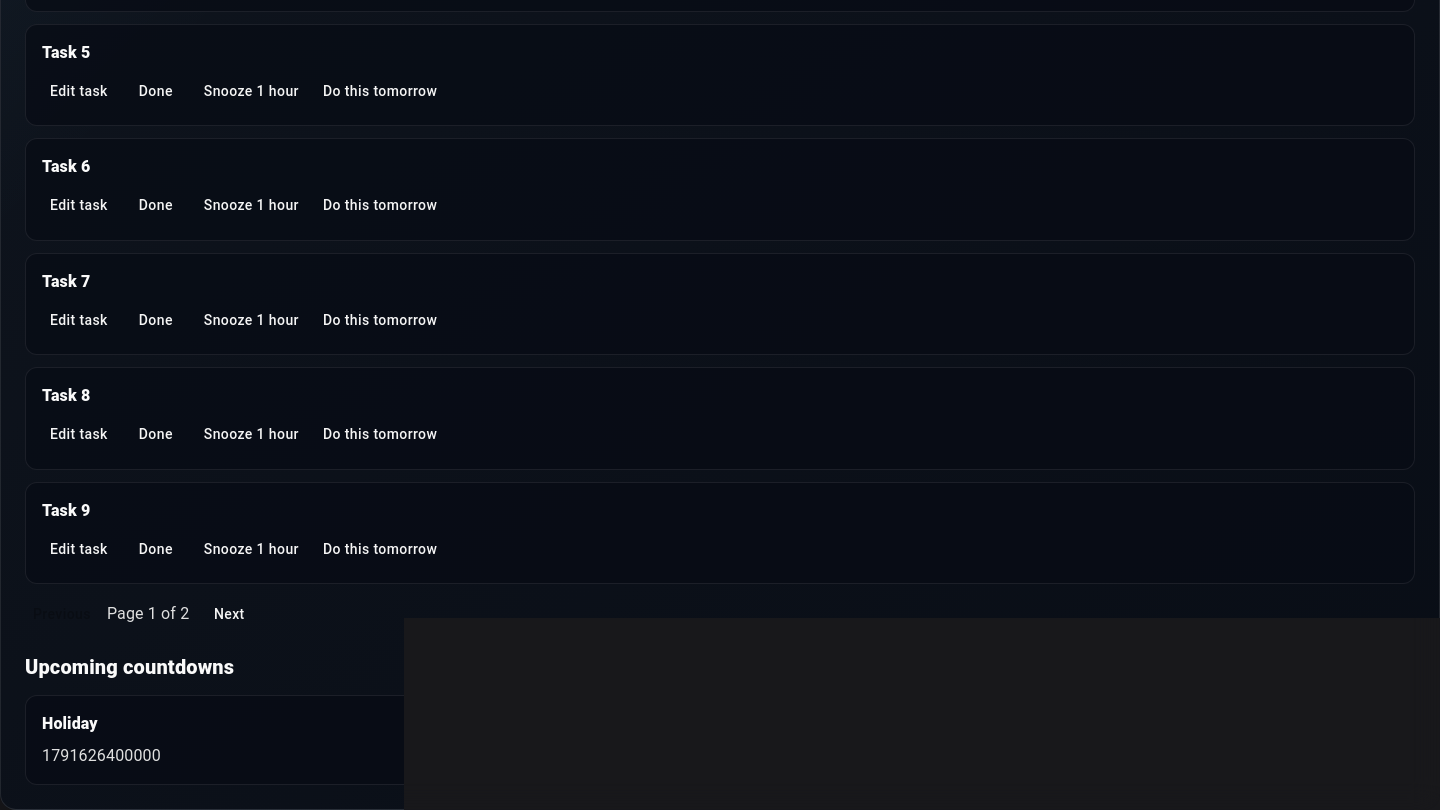
Test case: Today dashboard › exposes every item through pagination and refreshes after note conversion
(page scrolled)
Expected: the text "Task 11" is not shown
Click the button "Next" at (229, 614), box [197,596,261,632]
(page scrolled)
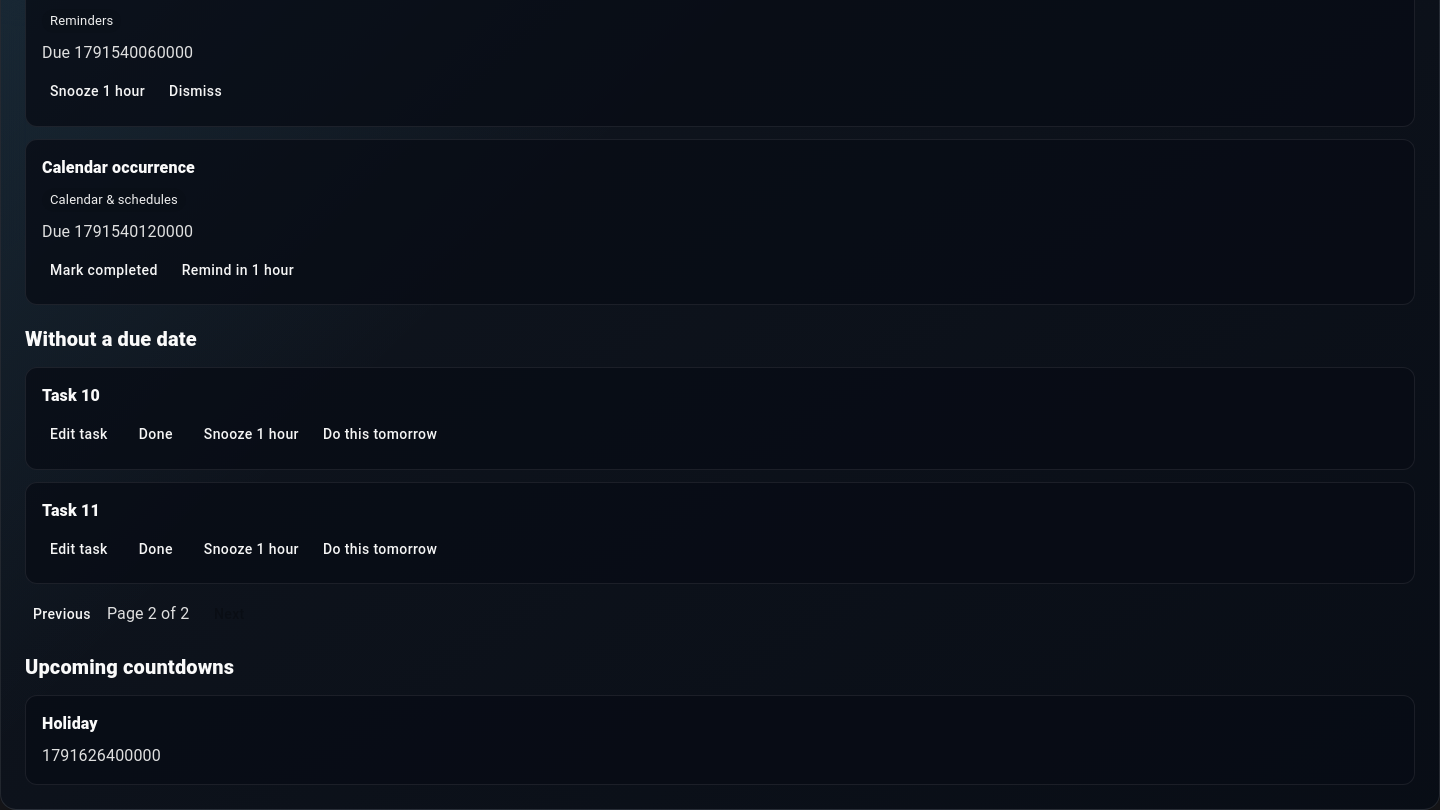
Expected: the text "Task 11" is shown, [42,500,100,520]
